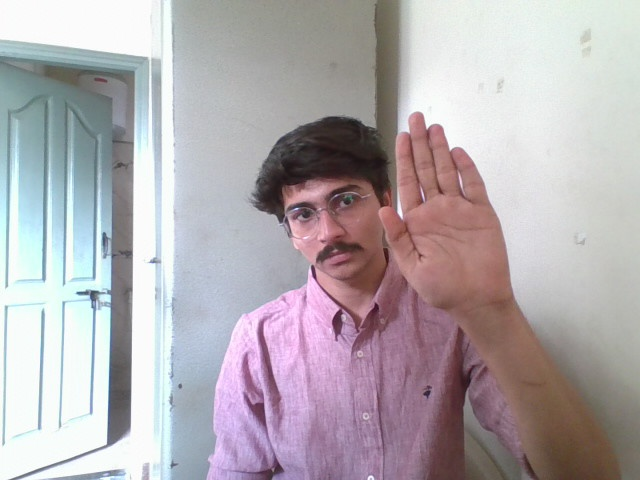hello: (370, 90, 581, 416)
